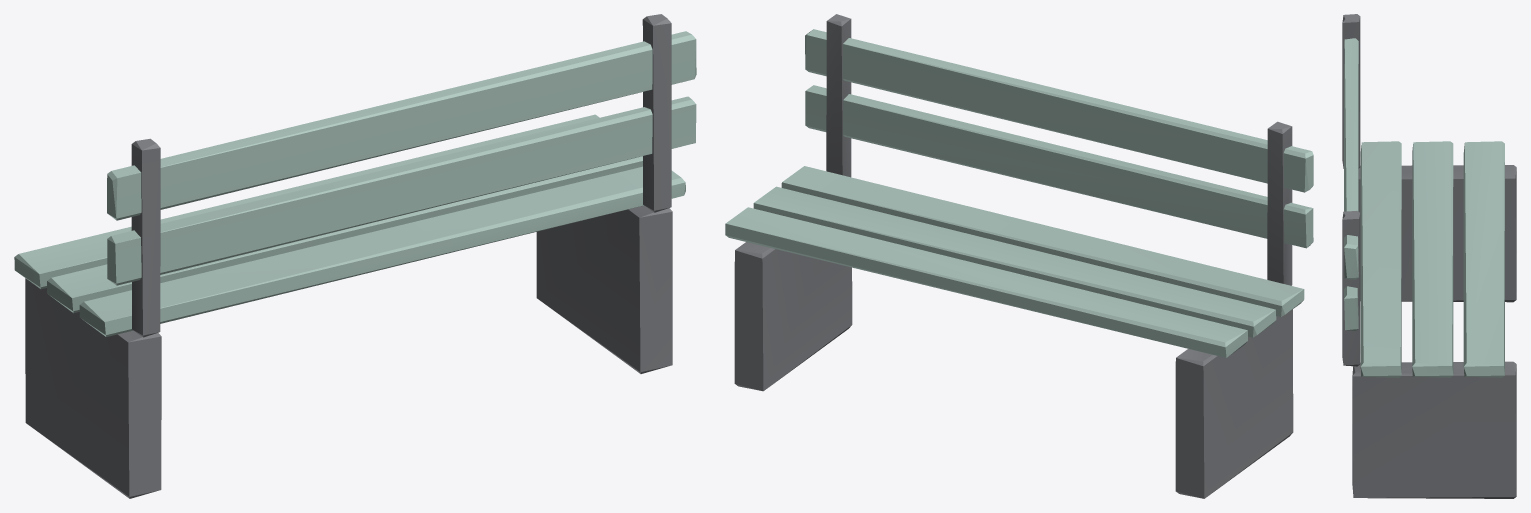
The model's file is furn_garden_bench__mint_low.glb.
3 renders of one model, left to right at view 1: azimuth 30°, elevation 25°; view 2: azimuth 150°, elevation 25°; view 3: azimuth 270°, elevation 25°, orthographic. The views are drawn at different scales.
Size of the model in its own units: 1.6 by 0.93 by 0.5236.
